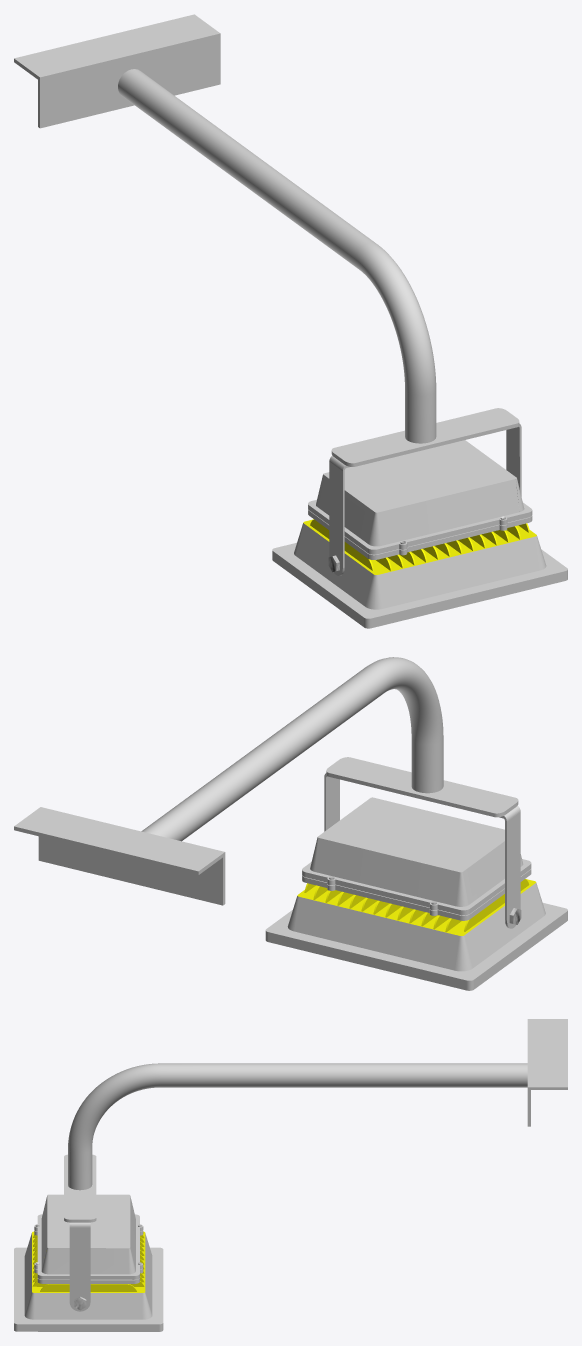
The model's file is arm-light - Copy.glb.
3 views of the same model, one above another, from view 1: azimuth 30°, elevation 25°; view 2: azimuth 150°, elevation 25°; view 3: azimuth 270°, elevation 25° (orthographic). The views are drawn at different scales.
Parts seen in each view (by area): view 1: 3DGeom-5, 3DGeom-12, 3DGeom-1, 3DGeom-11, 3DGeom-10, 3DGeom-4, 3DGeom-9; view 2: 3DGeom-5, 3DGeom-1, 3DGeom-12, 3DGeom-11, 3DGeom-10, 3DGeom-4, 3DGeom-9; view 3: 3DGeom-12, 3DGeom-1, 3DGeom-5, 3DGeom-11, 3DGeom-9, 3DGeom-10, 3DGeom-4.
Boxes of the visible parts, x1,y1,x2,y2 form: 3DGeom-5: [308, 440, 532, 559]; 3DGeom-12: [118, 69, 436, 443]; 3DGeom-1: [272, 523, 567, 628]; 3DGeom-11: [14, 14, 220, 128]; 3DGeom-10: [331, 408, 519, 466]; 3DGeom-4: [303, 519, 536, 574]; 3DGeom-9: [329, 423, 521, 575]; 3DGeom-5: [302, 797, 531, 920]; 3DGeom-1: [265, 883, 567, 990]; 3DGeom-12: [141, 657, 443, 841]; 3DGeom-11: [14, 807, 225, 905]; 3DGeom-10: [326, 757, 518, 817]; 3DGeom-4: [297, 879, 536, 935]; 3DGeom-9: [324, 773, 520, 928]; 3DGeom-12: [68, 1063, 527, 1190]; 3DGeom-1: [14, 1233, 163, 1331]; 3DGeom-5: [34, 1194, 143, 1283]; 3DGeom-11: [527, 1019, 567, 1126]; 3DGeom-9: [69, 1222, 90, 1311]; 3DGeom-10: [64, 1154, 96, 1222]; 3DGeom-4: [32, 1231, 145, 1292].
Size of the model in its own units: 0.1125 by 0.1629 by 0.3435.
5 materials, 3 textured.
